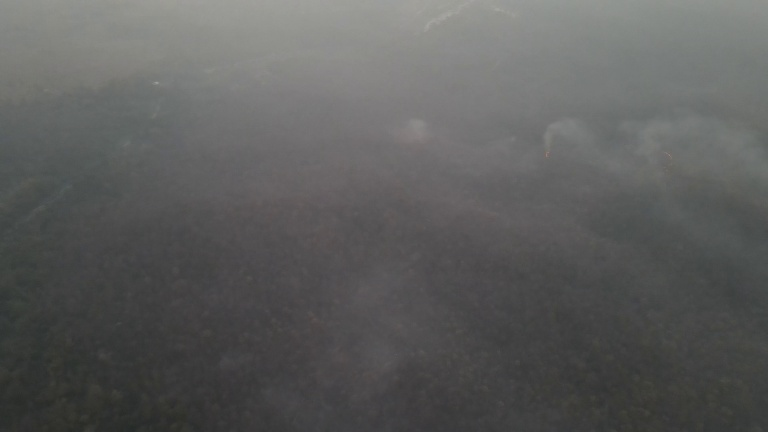fire: (650, 145, 677, 172), (541, 148, 551, 159)
smoke: (628, 112, 768, 226), (522, 113, 616, 185), (386, 117, 439, 151)
